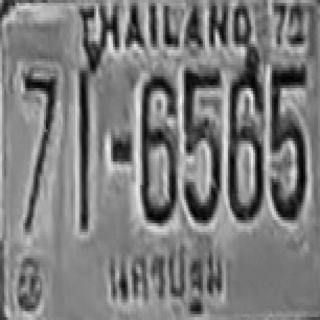N05: (182, 66, 220, 222), (269, 63, 306, 219)
N06: (139, 70, 177, 220), (227, 60, 262, 219)
N07: (23, 72, 56, 219), (23, 72, 56, 184), (23, 72, 56, 169)
